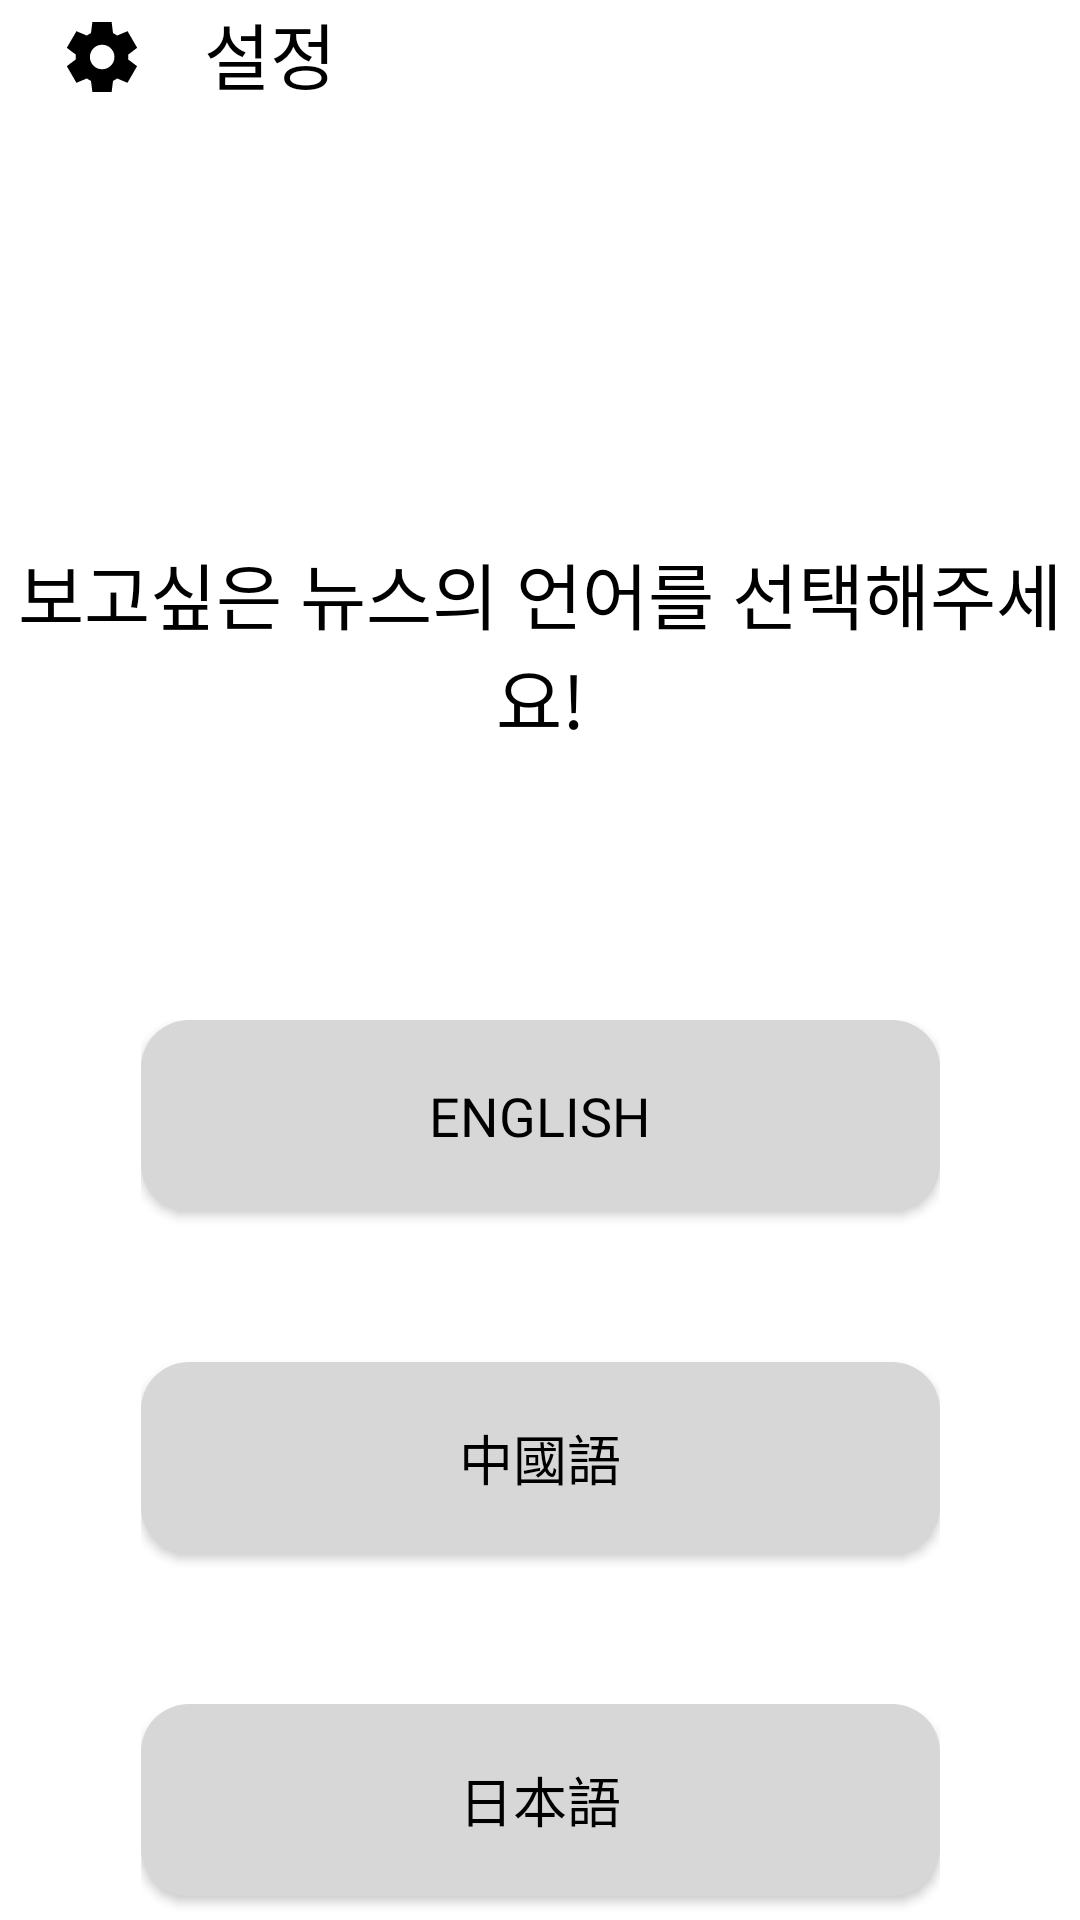

Named icons in this screenshot (1080 x 1920) and their centers, (x=x, y=y):
setting: (x=102, y=57)
